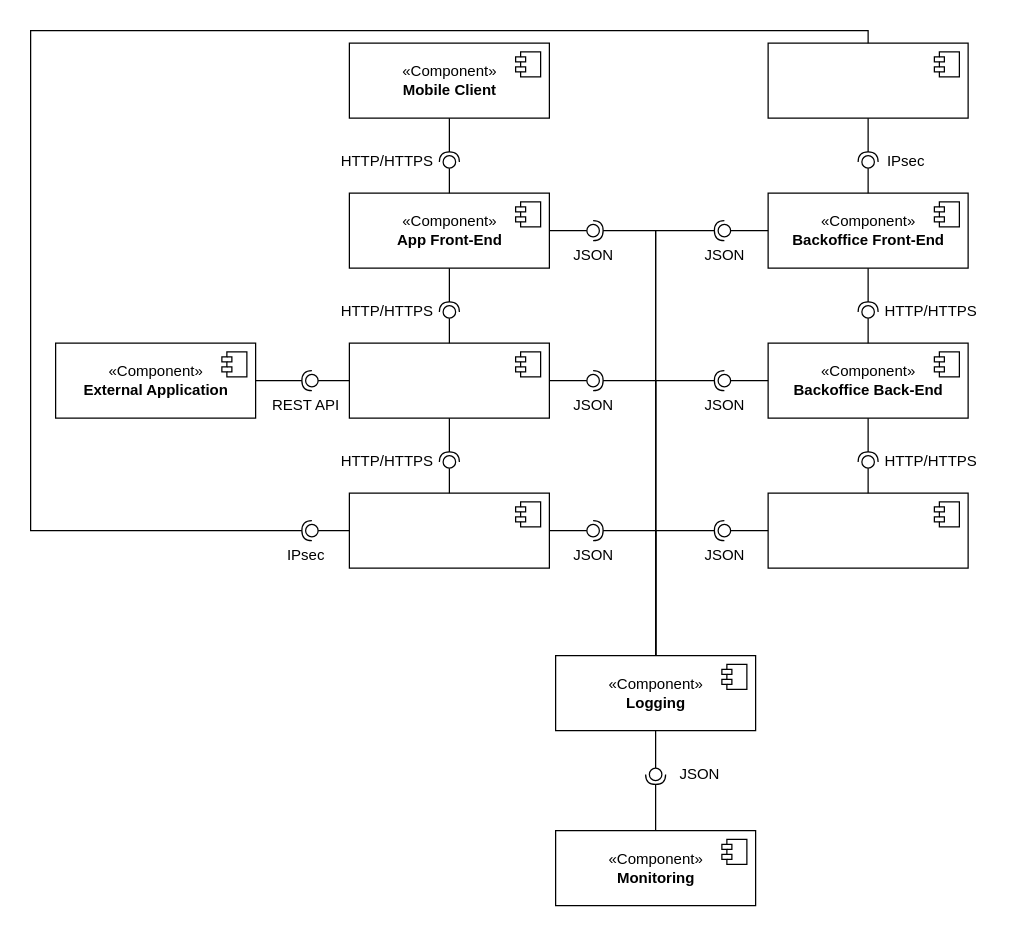
Some shapes in this 1009 by 928 pixel diagram are drawn without their labels. Each missing label, with the centre of its shape:
"«Component» App Back-End" goes at pixel 448 380.
"«Component» App Database" goes at pixel 448 530.
"«Component» Backoffice Database" goes at pixel 867 530.
"«Component» Workstation Client" goes at pixel 867 80.
